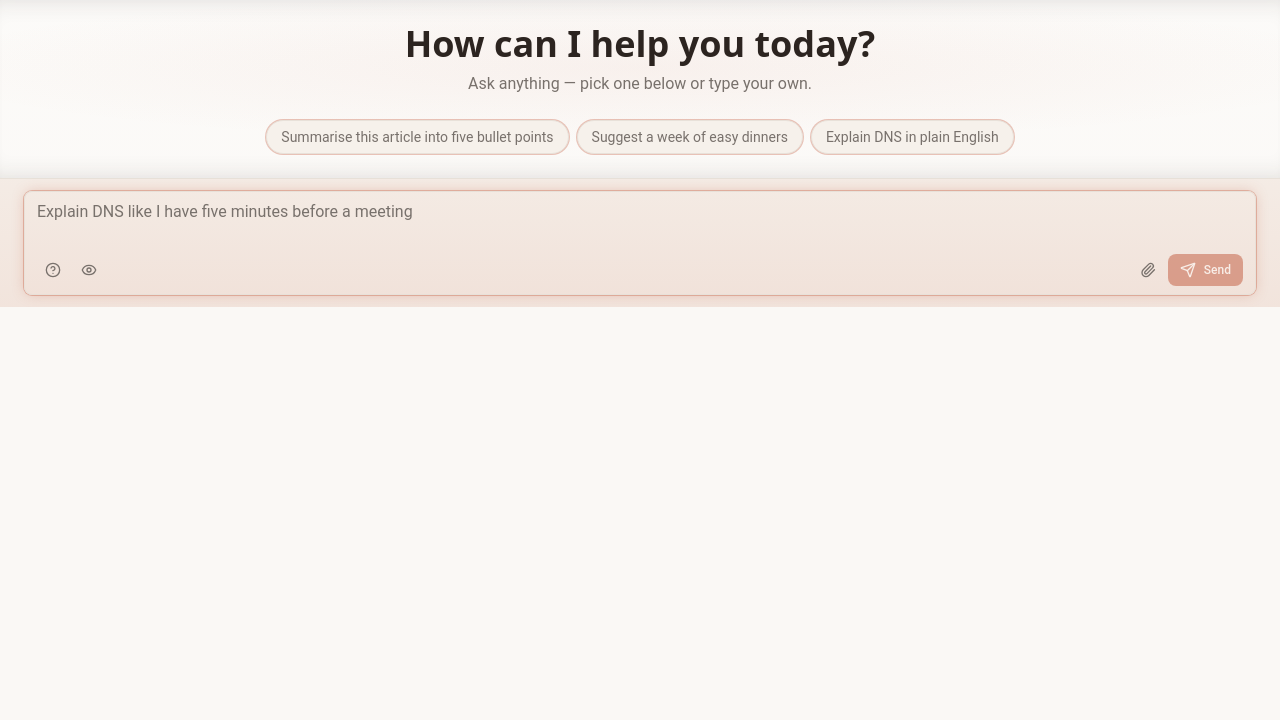
Test: ChatWindow capabilities panel (#366) › offers the connectors link when there are no connected tools
The width and height of the screenshot is (1280, 720).
Click the button with test id "capabilities-toggle": {"x": 53, "y": 270} [37,254,69,286]
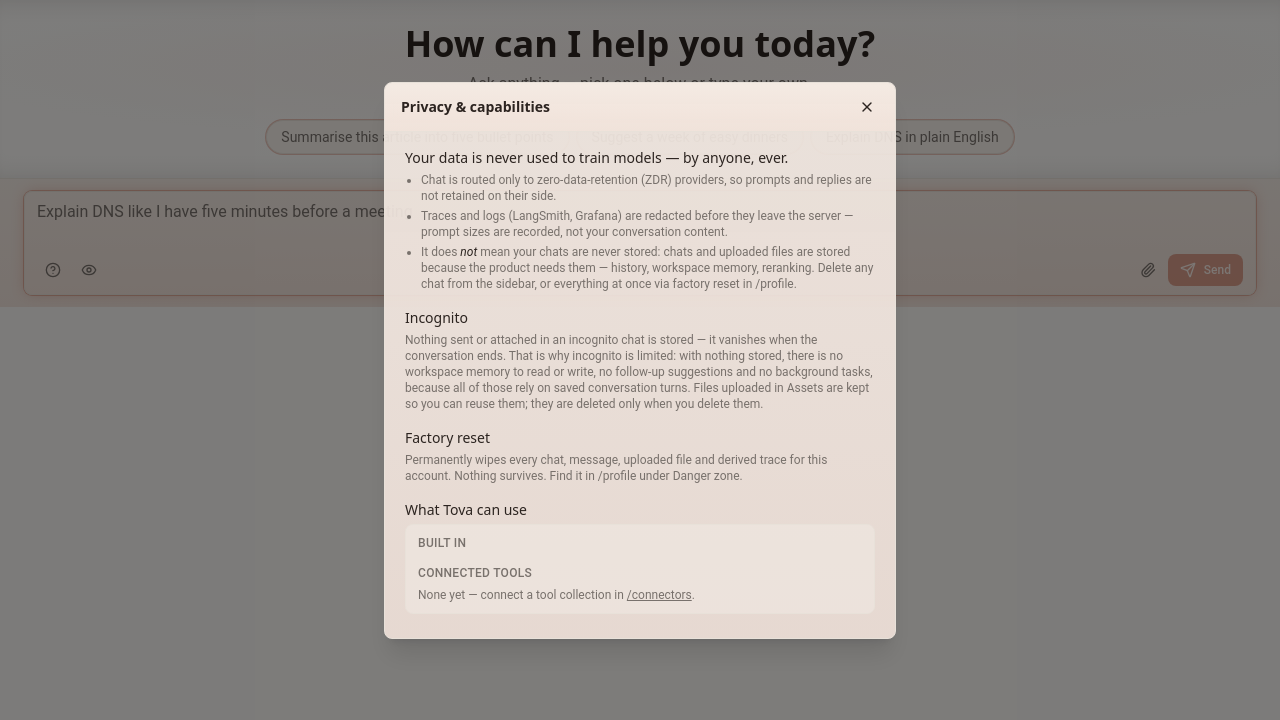
Check: the element with test id "capabilities-panel" is shown, box [405,524,875,614]
Check: the text "None yet — connect a tool collection in /connectors ." is shown, box [418,588,695,602]
